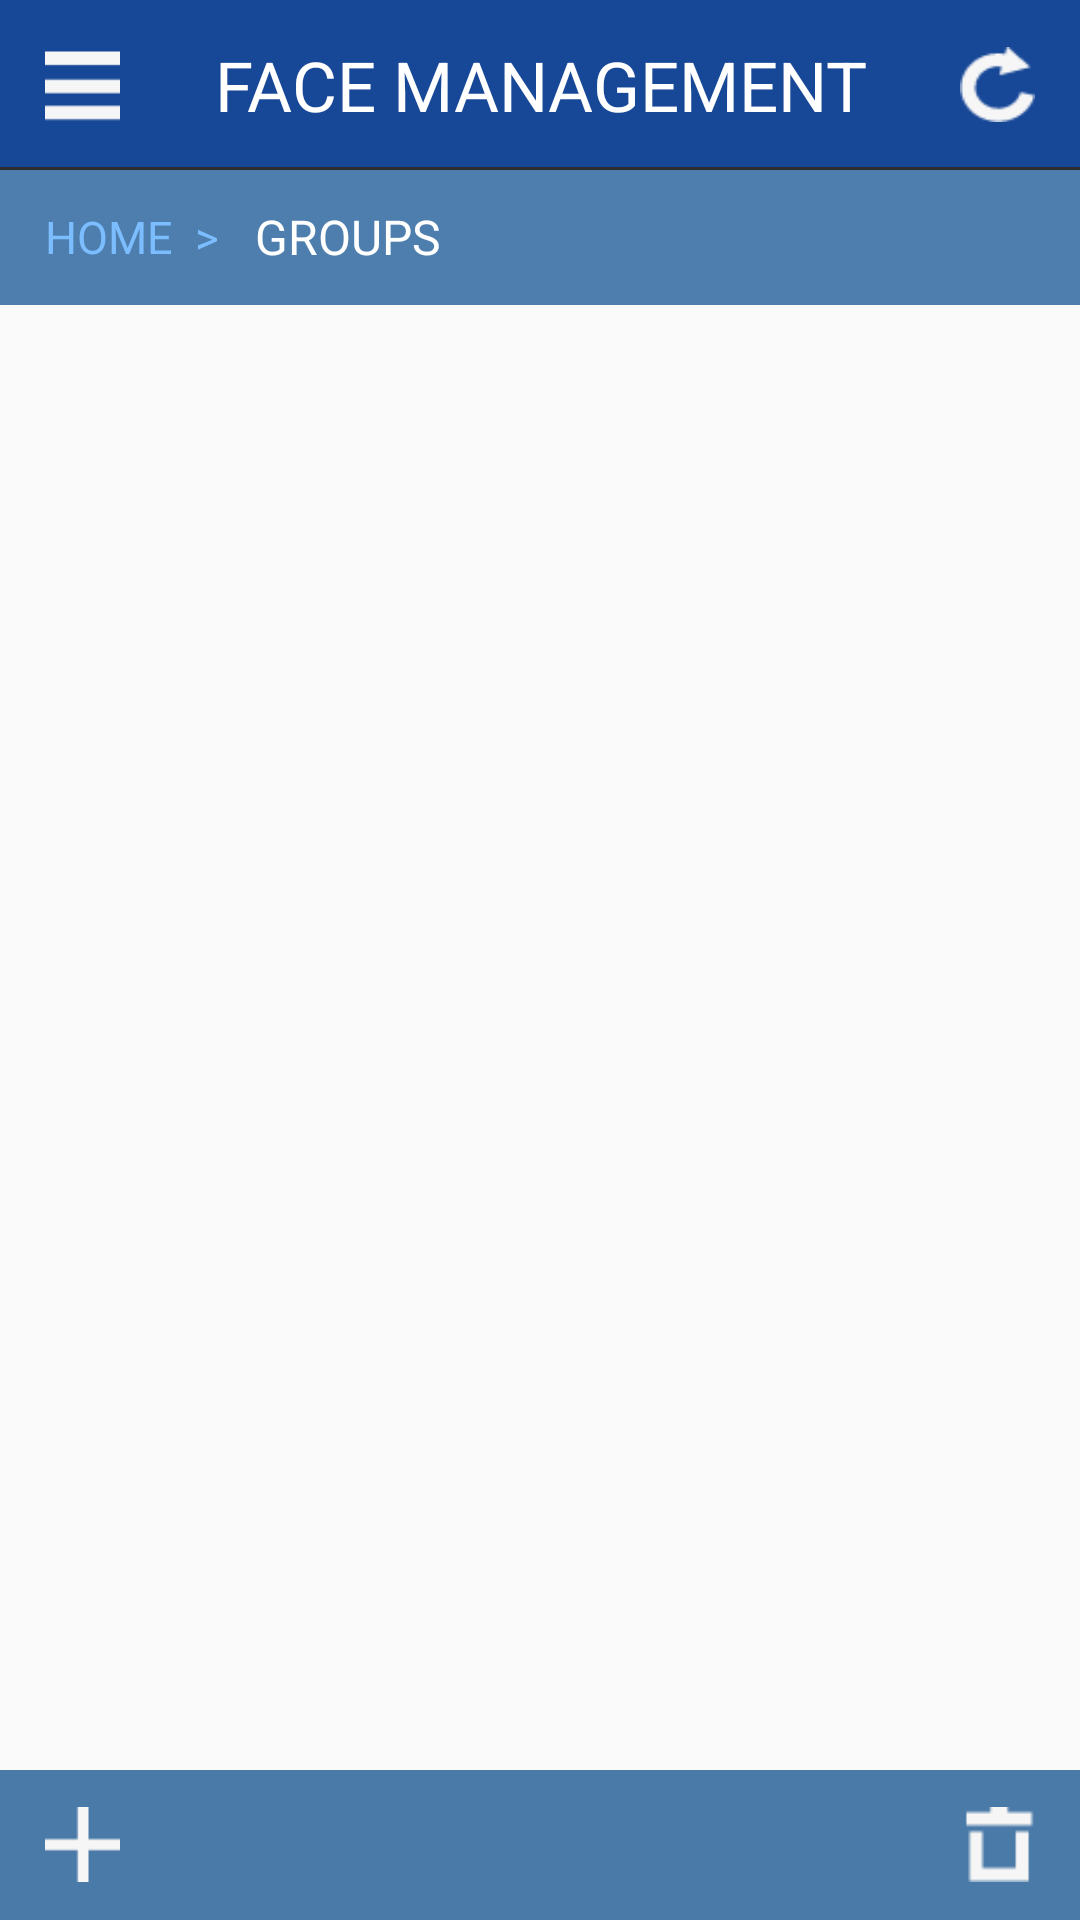

Locate icon controls on the screen. Image size 1080w x 1920h, boxes as detection(x1, y1, x2, y2).
caicaiadd: detection(45, 1807, 120, 1882)
delete: detection(966, 1807, 1033, 1882)
menubutton: detection(45, 51, 120, 121)
refresh: detection(960, 47, 1035, 122)
